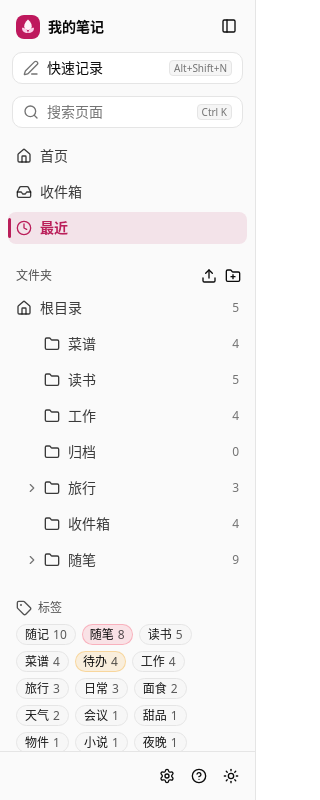
Test: the sidebar tags › a right-click opens the colour menu: the ten colours, "custom" and "no colour"
The width and height of the screenshot is (320, 800).
Step 1. Right-click the link "日常 3" → point(101, 688), box [75,678,128,699]
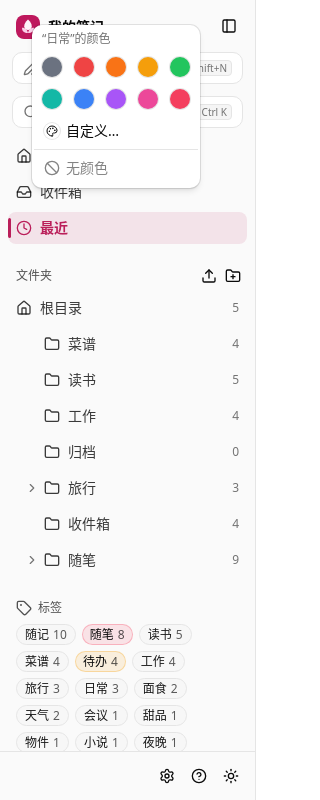
Expected: the menu item "自定义…" is shown, [44,121,119,140]
Expected: the menu item "无颜色" is shown, [44,158,108,177]
